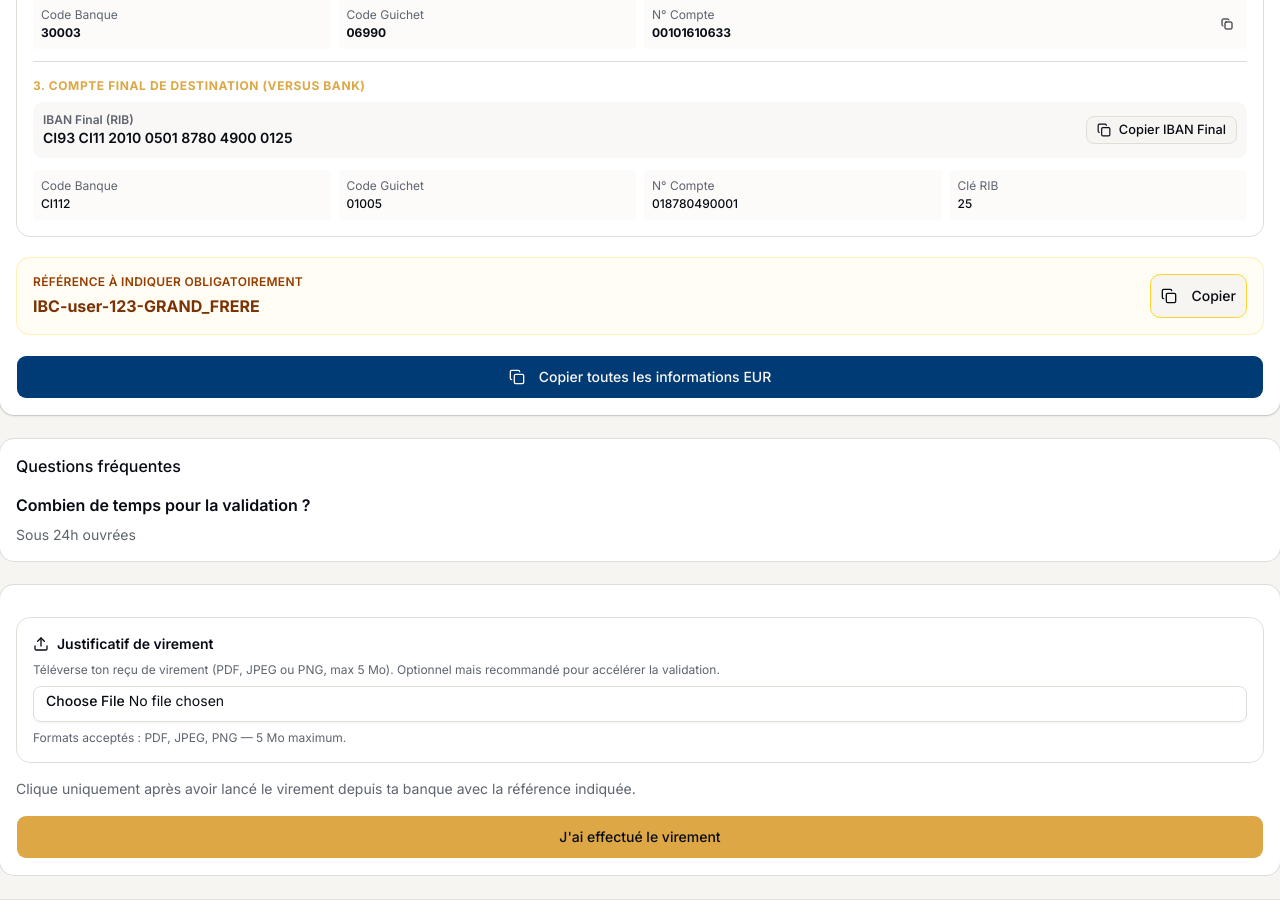
Test case: BankTransferInstructions › confirms transfer, shows exact toast copy, and renders pending tracker
(page scrolled)
Click the button "J'ai effectué le virement" at (640, 837), box x1=16 y1=815 x2=1264 y2=859
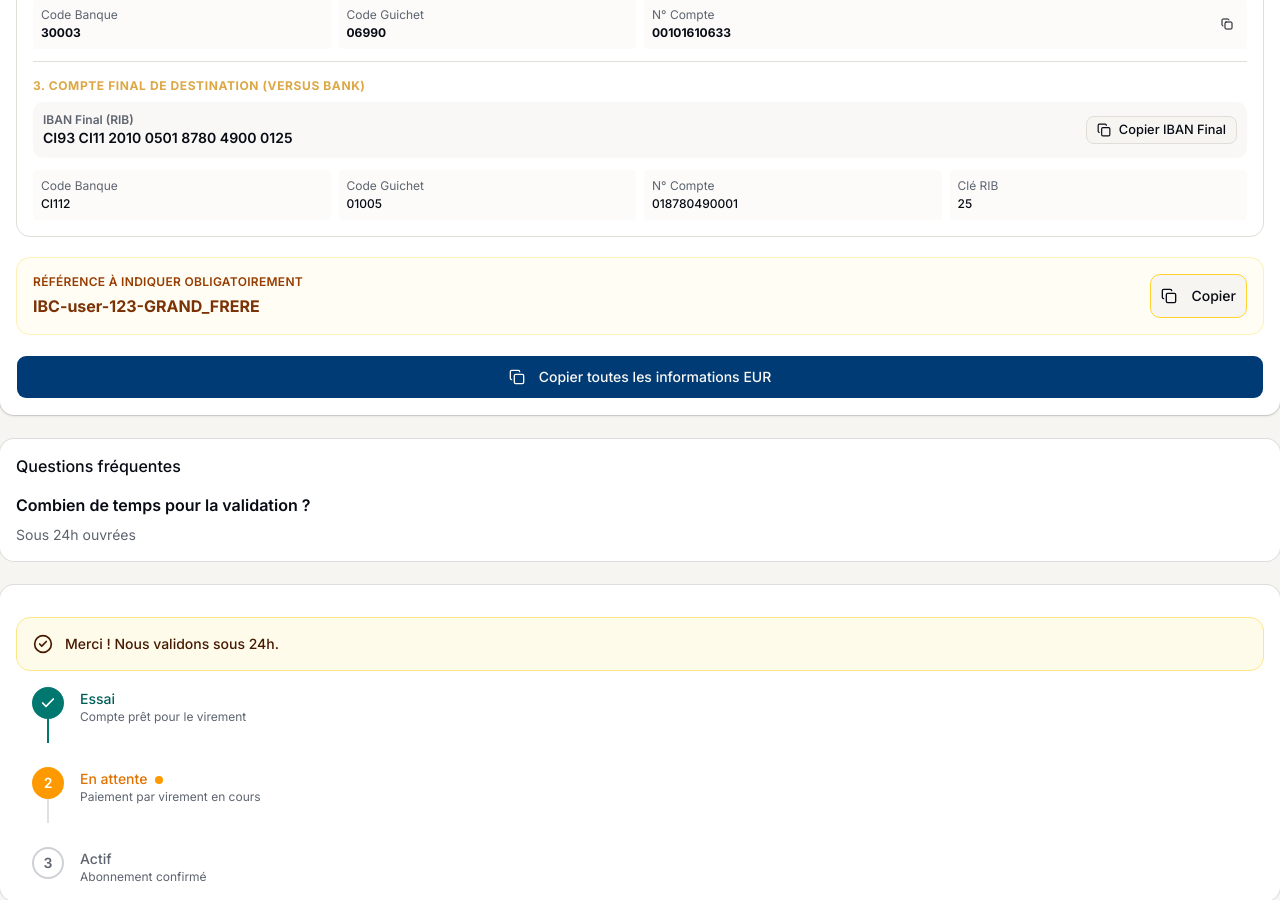
Check: the element with test id "transfer-confirmation" is shown, box x1=16 y1=617 x2=1264 y2=885
Check: the text "Essai" is shown, box x1=80 y1=690 x2=115 y2=707
Check: the text "En attente" is shown, box x1=80 y1=770 x2=163 y2=787
